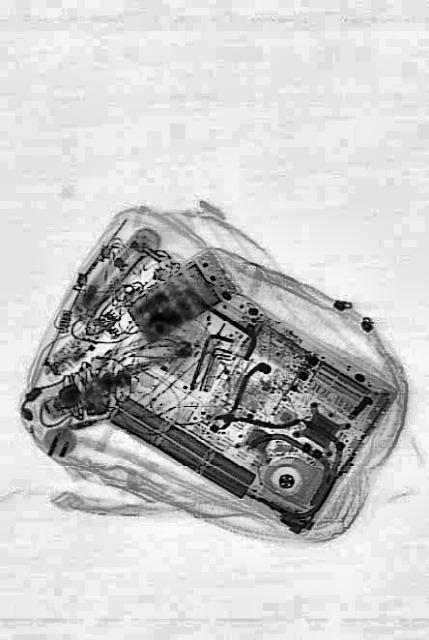Pliers: (203, 351, 301, 462)
